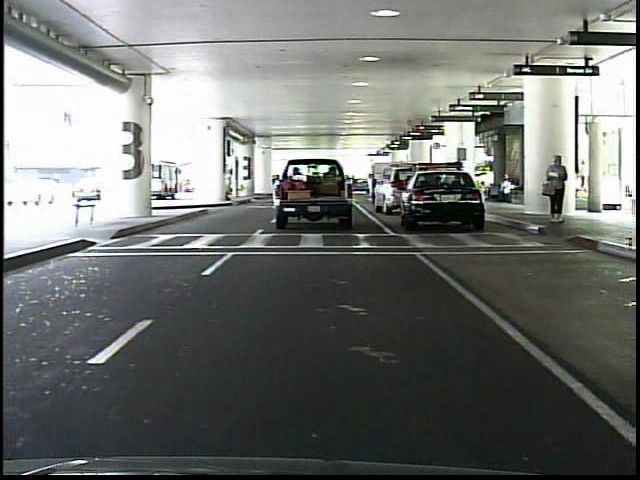person: (542, 148, 571, 228)
